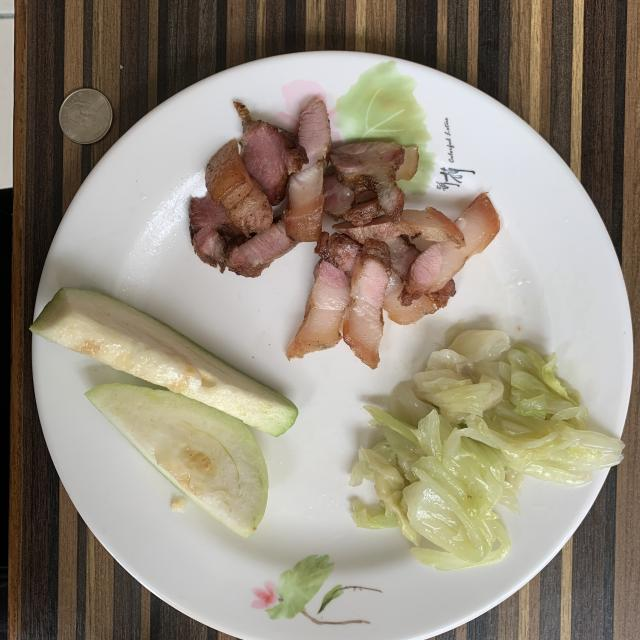cabbage: (350, 330, 624, 570)
coin: (59, 89, 112, 144)
grilled pork: (190, 99, 499, 368)
guava -sliced-: (31, 288, 298, 538)
